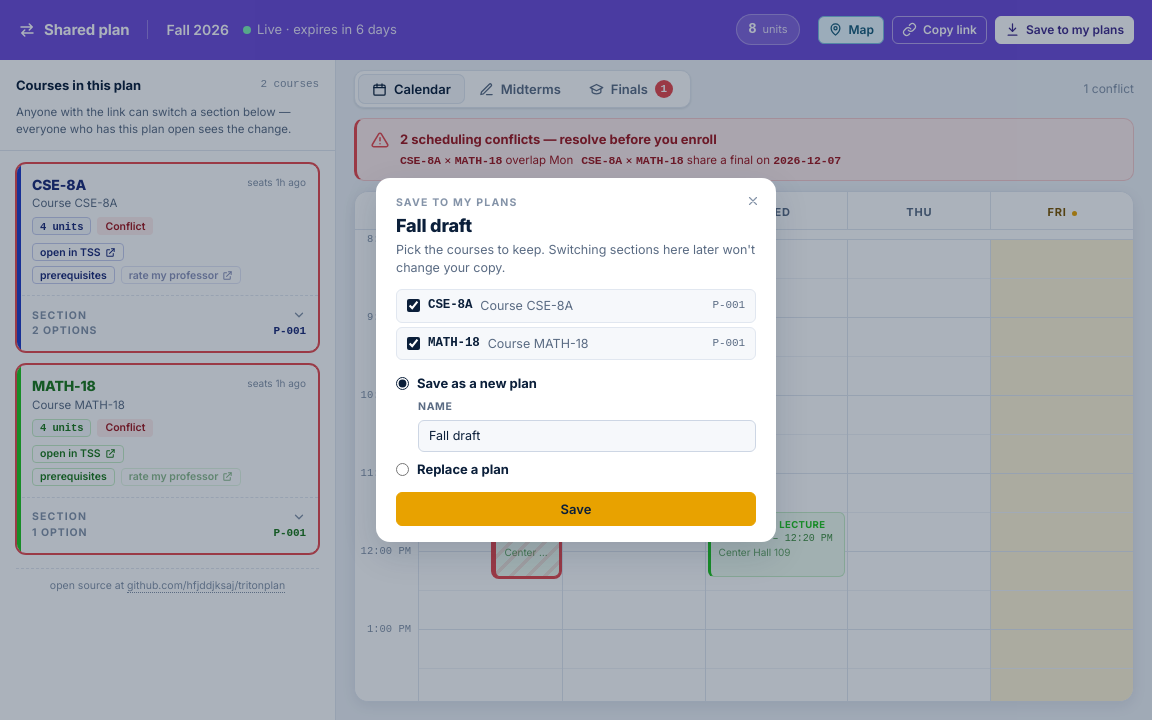
Test: SharedPlanPage: Save to my plans › ?save=1 opens the dialog once the plan is in, drops the flag from the address bar and the stashed link
Expected: the dialog shows "Save as a new plan", [417, 375, 537, 391]
Click the button named "Close": (753, 201) [740, 188, 766, 214]
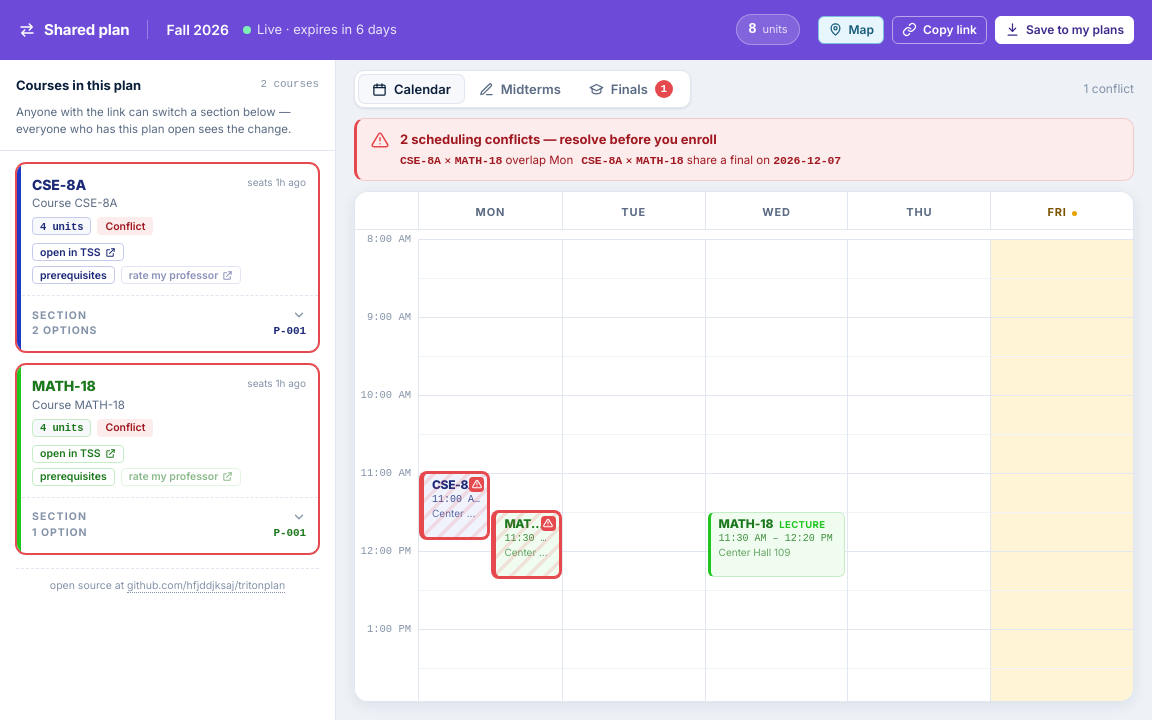
Result: the dialog is gone
